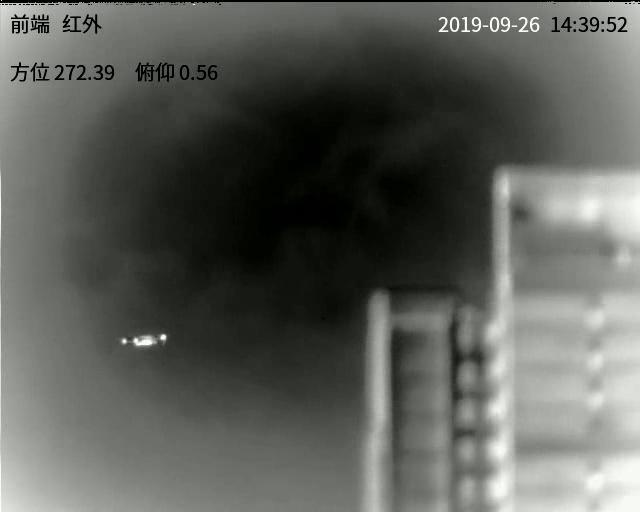DRONE: (118, 331, 169, 348)
